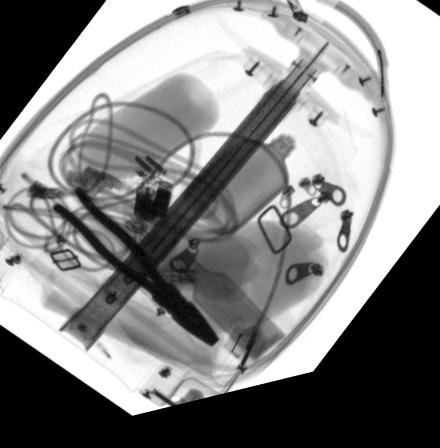Pliers: (51, 189, 219, 358)
